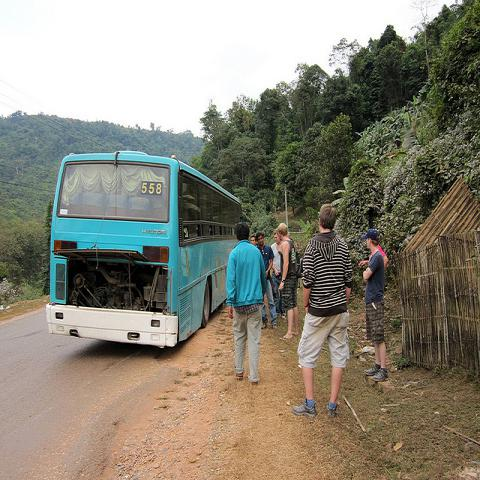bus: (44, 157, 242, 353)
